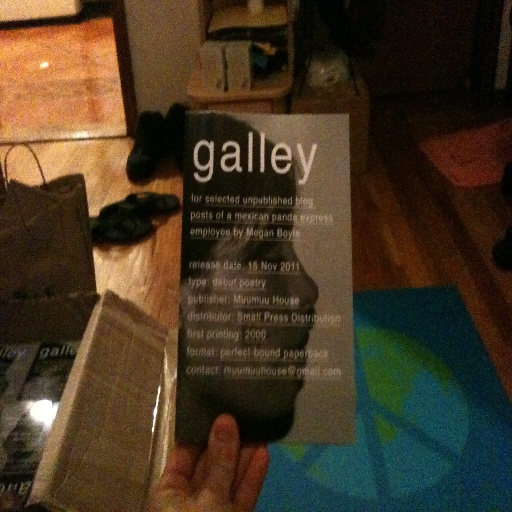hand: (146, 413, 270, 511)
